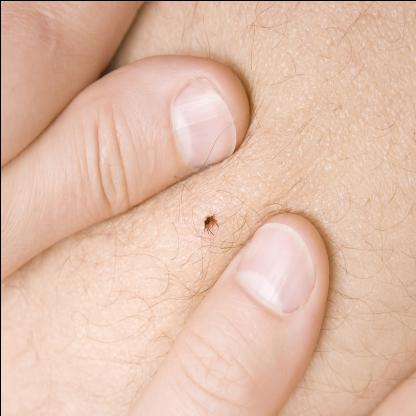Fire ant: (99, 235, 197, 286), (46, 190, 134, 233), (298, 207, 395, 242), (175, 144, 265, 180), (147, 188, 180, 224)
